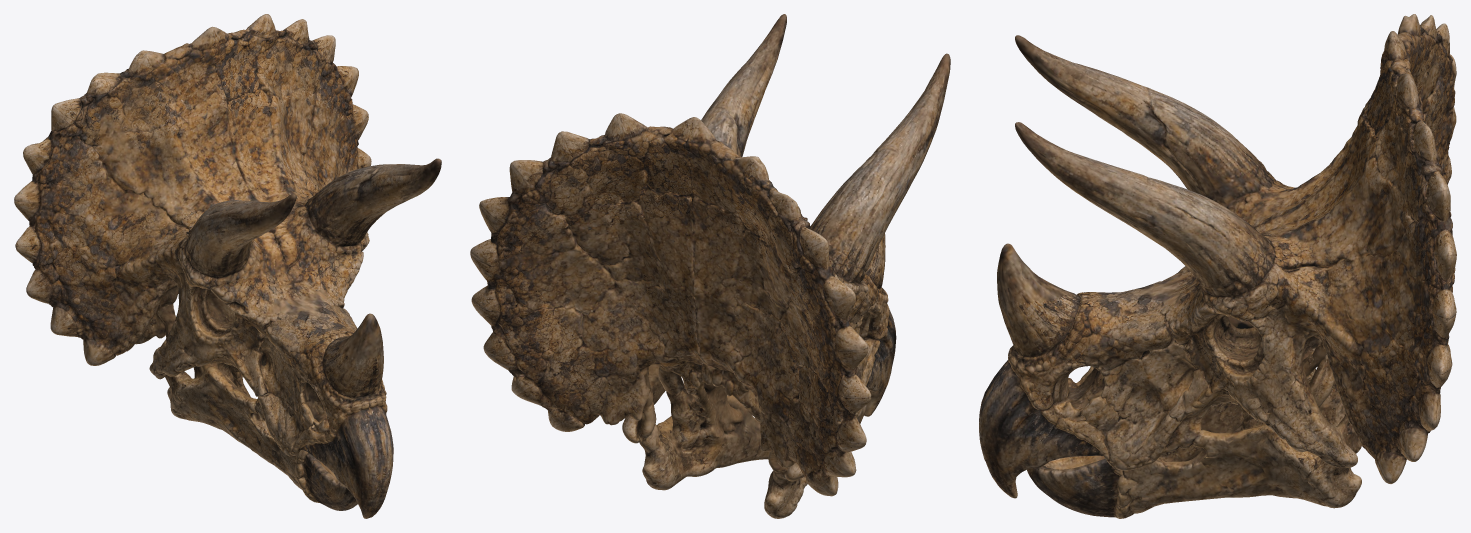
The model's file is triceratops_head.glb.
The picture shows the model from 3 angles, left to right: view 1: azimuth 30°, elevation 25°; view 2: azimuth 150°, elevation 25°; view 3: azimuth 270°, elevation 25°; orthographic projection. The views are drawn at different scales.
Parts seen in each view (by area): view 1: head; view 2: head; view 3: head.
Part boxes in pixels (bbox=[...]): head: bbox=[14, 14, 441, 518]; head: bbox=[470, 14, 950, 518]; head: bbox=[979, 14, 1456, 518].
Size of the model in its own units: 1.79 by 1.9 by 1.7.
Materials: 1 (1 with a texture image).
